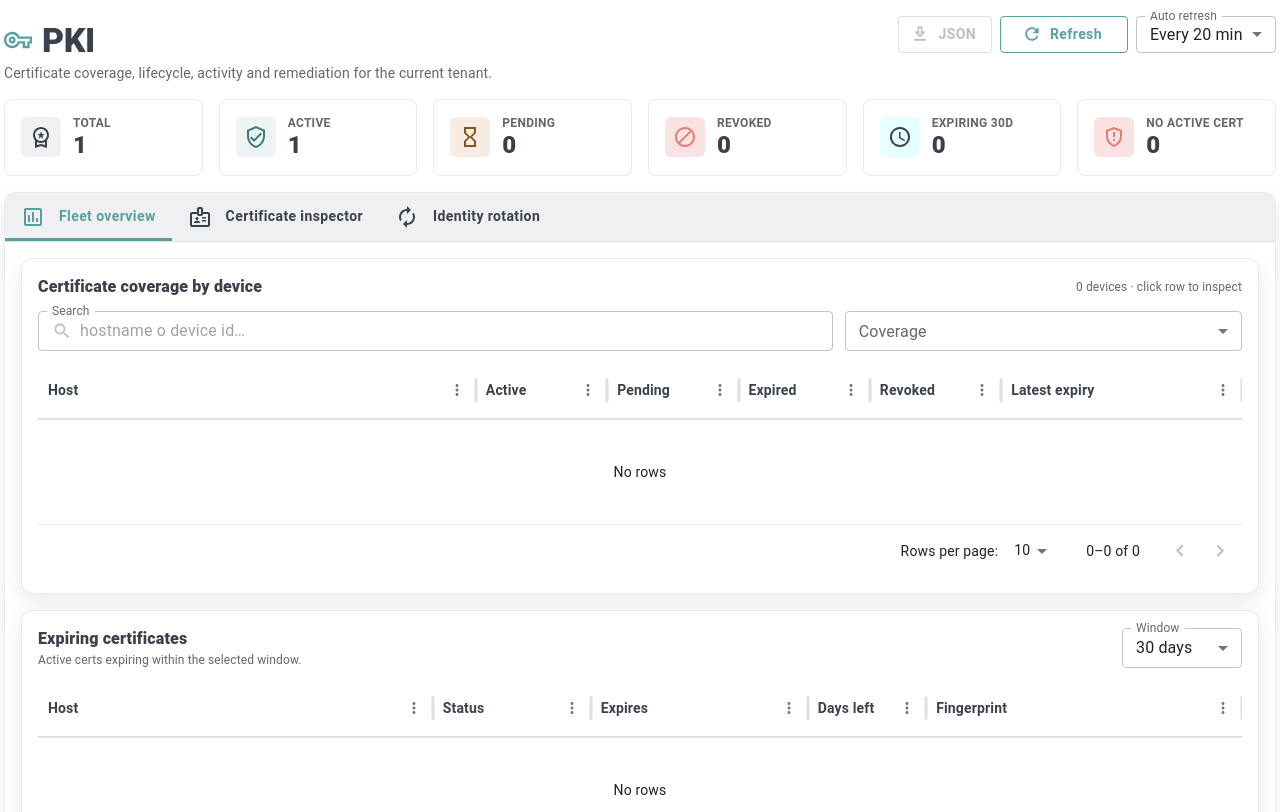
Test case: PKI — pestaña Identity rotation › ⭐ un ADMIN la ve y a un clic enseña el estado de la rotación
Click the tab "Identity rotation" at [468, 217], box x1=379 y1=193 x2=556 y2=241
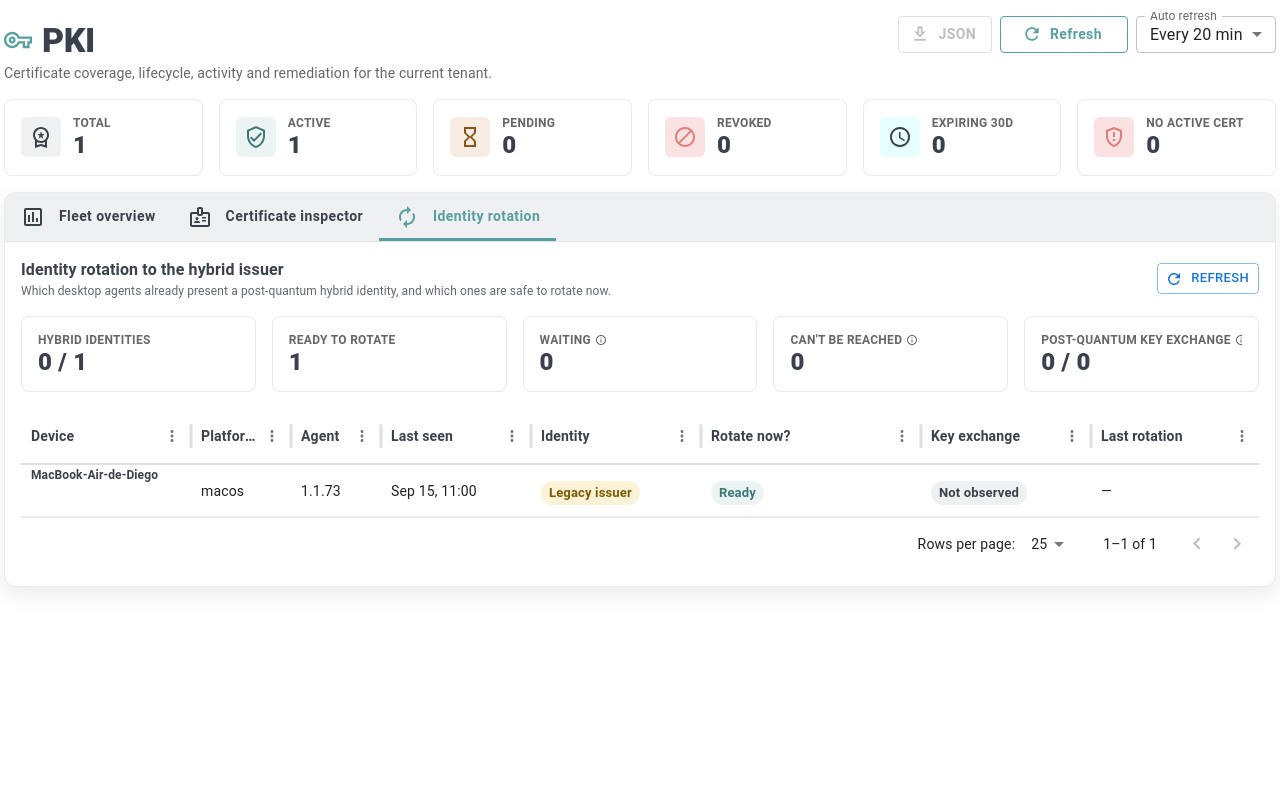
Expected: the text "MacBook-Air-de-Diego" is shown, x1=31 y1=468 x2=158 y2=482
